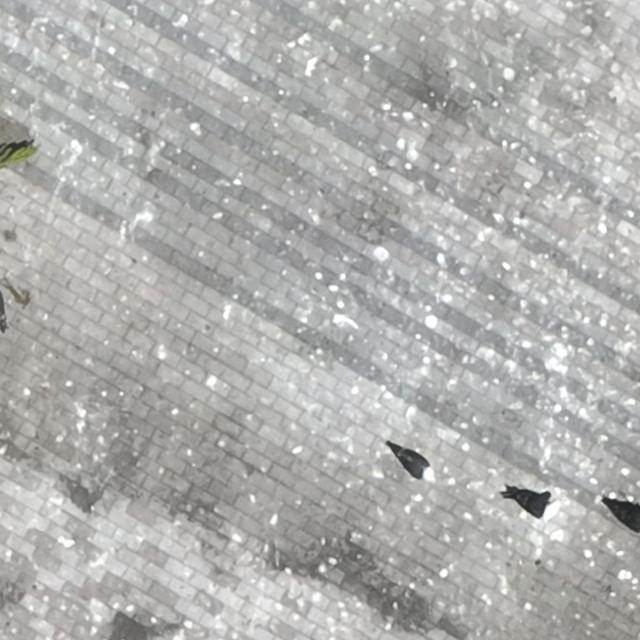umineko: (398, 452, 431, 480), (513, 494, 550, 518), (613, 506, 640, 530)
